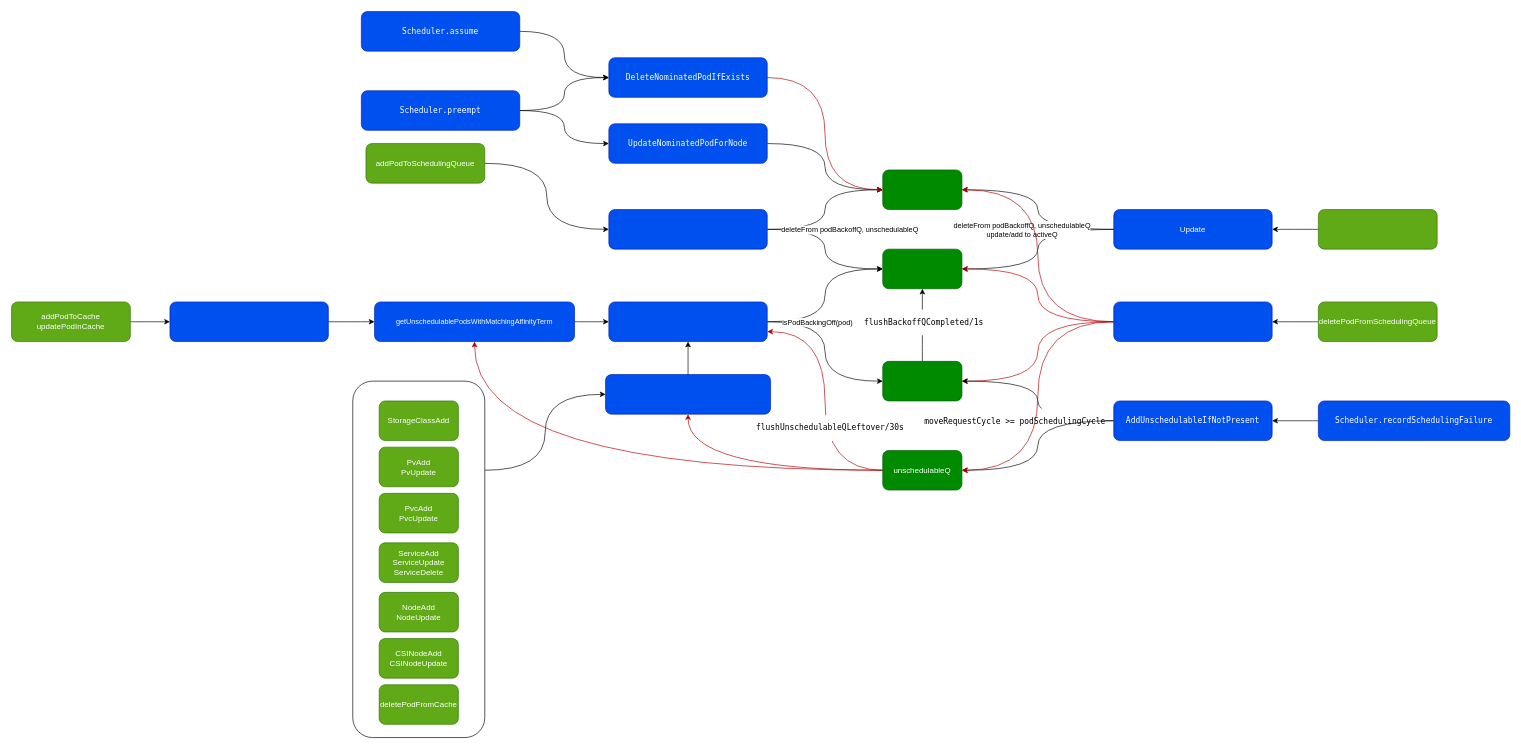
This 1521x749 diagram has some shape labels left out. Each missing label, with the centre of its shape:
"activeQ" goes at [922,268].
"Add" goes at [687,229].
"AssignedPodAdded AssignedPodUpdated" goes at [248,321].
"Delete" goes at [1192,321].
"MoveAllToActiveOrBackoffQueue" goes at [688,394].
"movePodsToActiveOrBackoffQueue" goes at [687,321].
"nominatedPods" goes at [922,189].
"podBackoffQ" goes at [922,381].
"updatePodInSchedulingQueue" goes at [1377,229].
